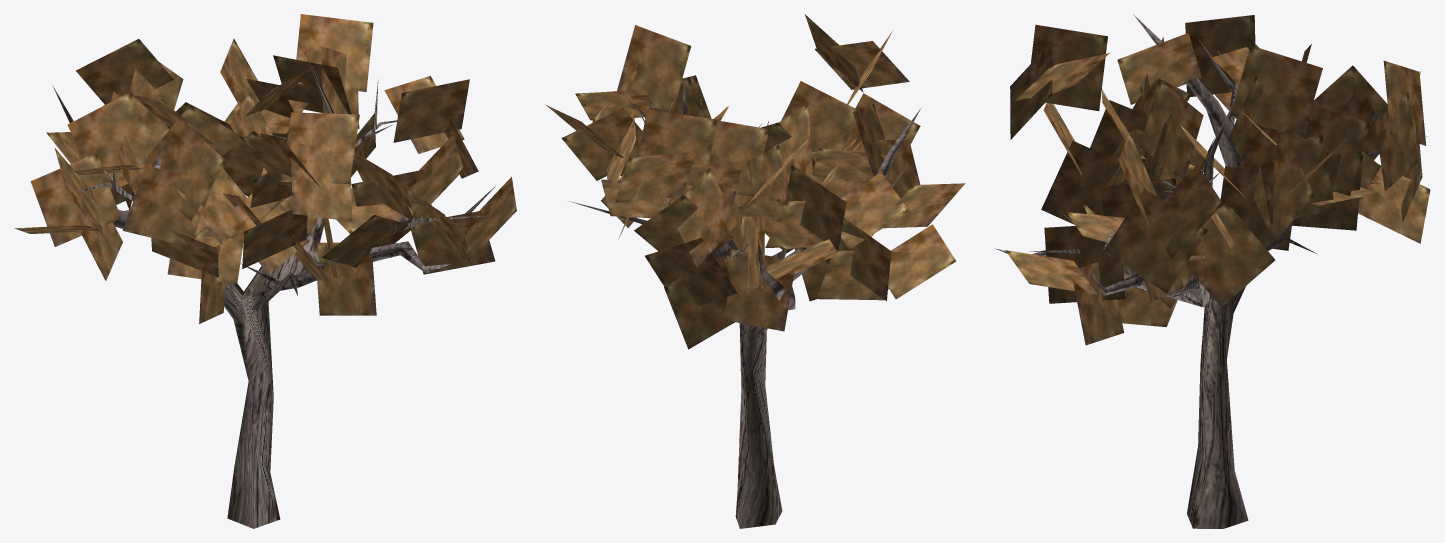
The model's file is Tree13.obj.
3 renders of one model, left to right at view 1: azimuth 30°, elevation 25°; view 2: azimuth 150°, elevation 25°; view 3: azimuth 270°, elevation 25°, orthographic. The views are drawn at different scales.
Parts seen in each view (by area): view 1: Mesh_0, Mesh_1; view 2: Mesh_0, Mesh_1; view 3: Mesh_0, Mesh_1.
Boxes of the visible parts, <box> form: Mesh_0: <box>14,14,516,323</box>; Mesh_1: <box>52,52,495,528</box>; Mesh_0: <box>546,14,965,349</box>; Mesh_1: <box>568,80,945,528</box>; Mesh_0: <box>1005,15,1430,345</box>; Mesh_1: <box>995,14,1427,528</box>.
Size of the model in its own units: 4.52 by 4.72 by 3.97.
2 materials, 2 textured.
